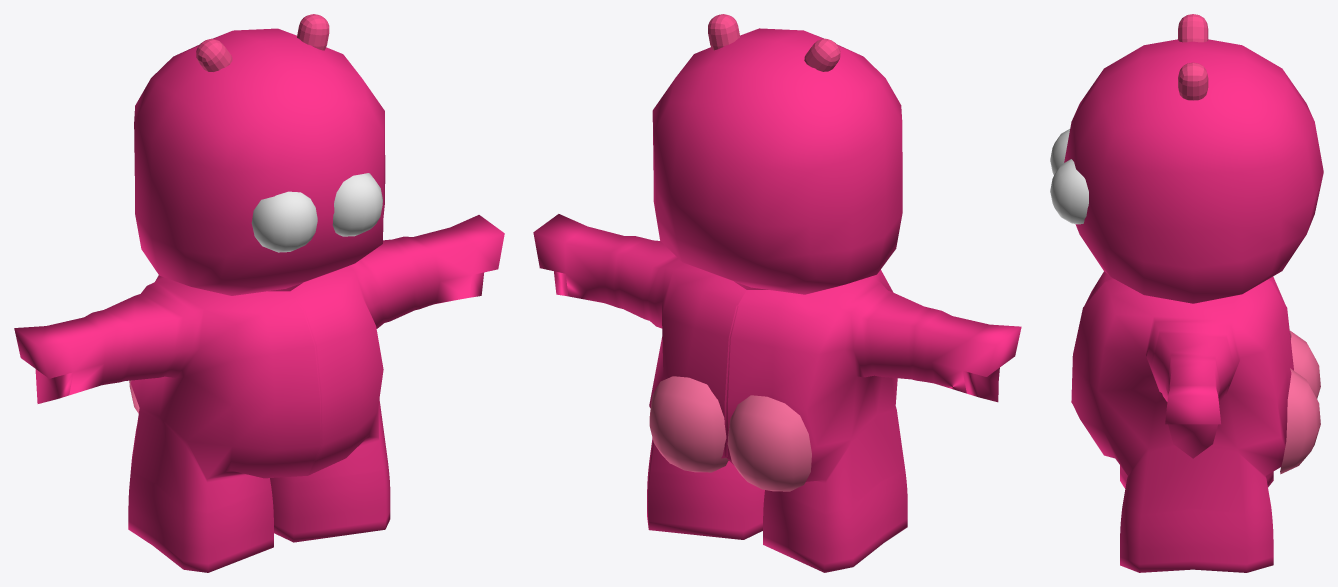
The model's file is nad.fbx.
The picture shows the model from 3 angles, left to right: view 1: azimuth 30°, elevation 25°; view 2: azimuth 150°, elevation 25°; view 3: azimuth 270°, elevation 25°; orthographic projection. The views are drawn at different scales.
Visible parts, largest first — view 1: Cube.006; view 2: Cube.006; view 3: Cube.006.
Boxes of the visible parts, x1,y1,x2,y2 form: Cube.006: [14, 14, 504, 572]; Cube.006: [533, 14, 1021, 572]; Cube.006: [1050, 14, 1323, 572].
Bounding box in the file's own units: 3.38 × 3.49 × 1.76.
